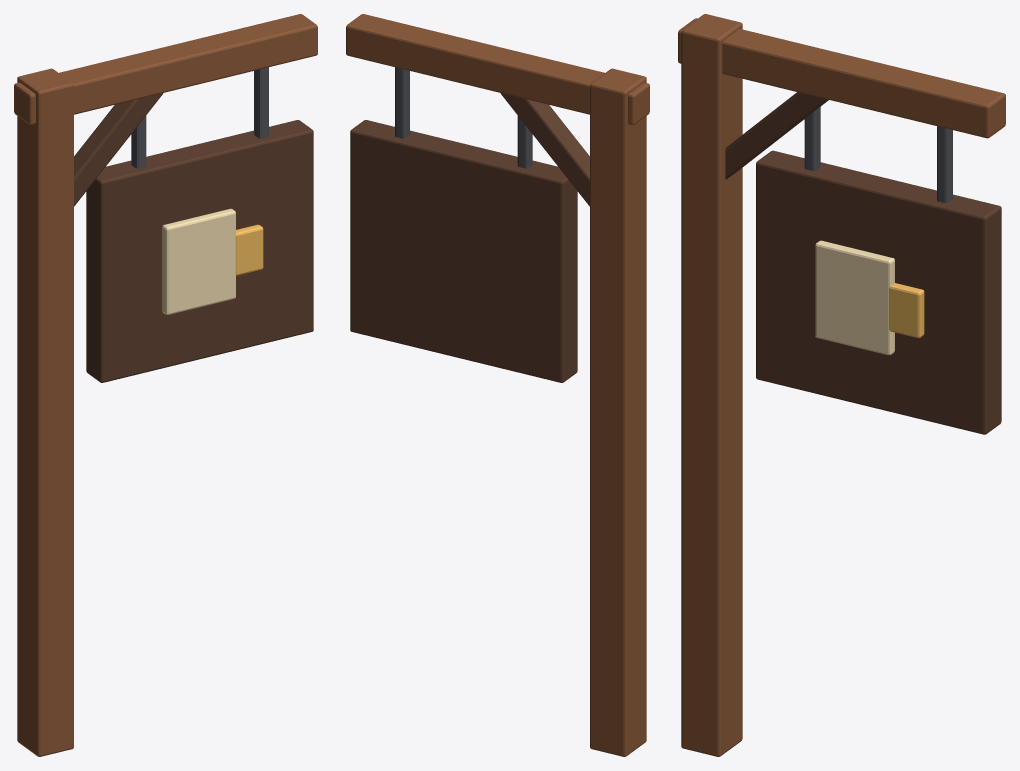
File: ashwick-tavern-sign.meshopt.glb
3 renders of one model, left to right at view 1: azimuth 30°, elevation 25°; view 2: azimuth 150°, elevation 25°; view 3: azimuth 330°, elevation 25°, orthographic. The views are drawn at different scales.
Parts seen in each view (by area): view 1: Tavern sign.001, Post.001, Bracket.001, Tankard emblem.001, Brace.001, Straps.001, Handle.001; view 2: Tavern sign.001, Post.001, Bracket.001, Brace.001, Straps.001; view 3: Tavern sign.001, Post.001, Bracket.001, Tankard emblem.001, Brace.001, Straps.001, Handle.001.
Boxes of the visible parts, box(x1,y1,x2,y2) form: Tavern sign.001: box(86, 120, 313, 382); Post.001: box(17, 68, 73, 756); Bracket.001: box(14, 14, 317, 124); Tankard emblem.001: box(162, 208, 235, 314); Brace.001: box(74, 93, 163, 206); Straps.001: box(131, 67, 268, 168); Handle.001: box(235, 224, 263, 275); Tavern sign.001: box(350, 120, 577, 382); Post.001: box(590, 68, 646, 756); Bracket.001: box(346, 14, 649, 124); Brace.001: box(500, 93, 589, 206); Straps.001: box(395, 67, 532, 168); Tavern sign.001: box(756, 150, 1001, 434); Post.001: box(681, 14, 742, 756); Bracket.001: box(678, 18, 1005, 138); Tankard emblem.001: box(815, 240, 894, 355); Brace.001: box(725, 92, 828, 179); Straps.001: box(804, 107, 952, 203); Handle.001: box(889, 283, 924, 338).
Bounding box in the file's own units: 1.27 × 2.8 × 0.185.
